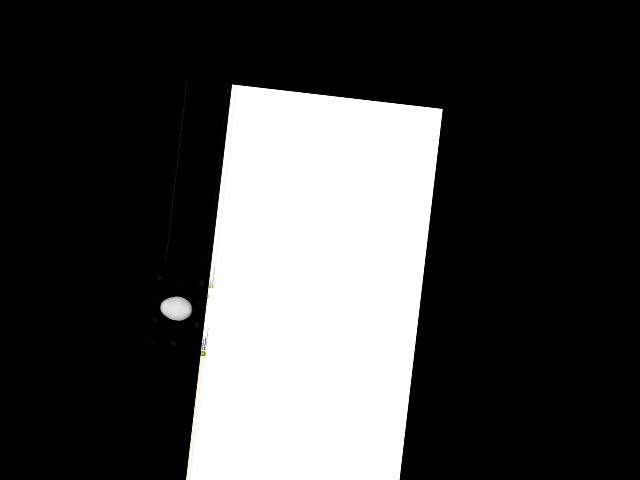egg: (159, 293, 194, 321)
